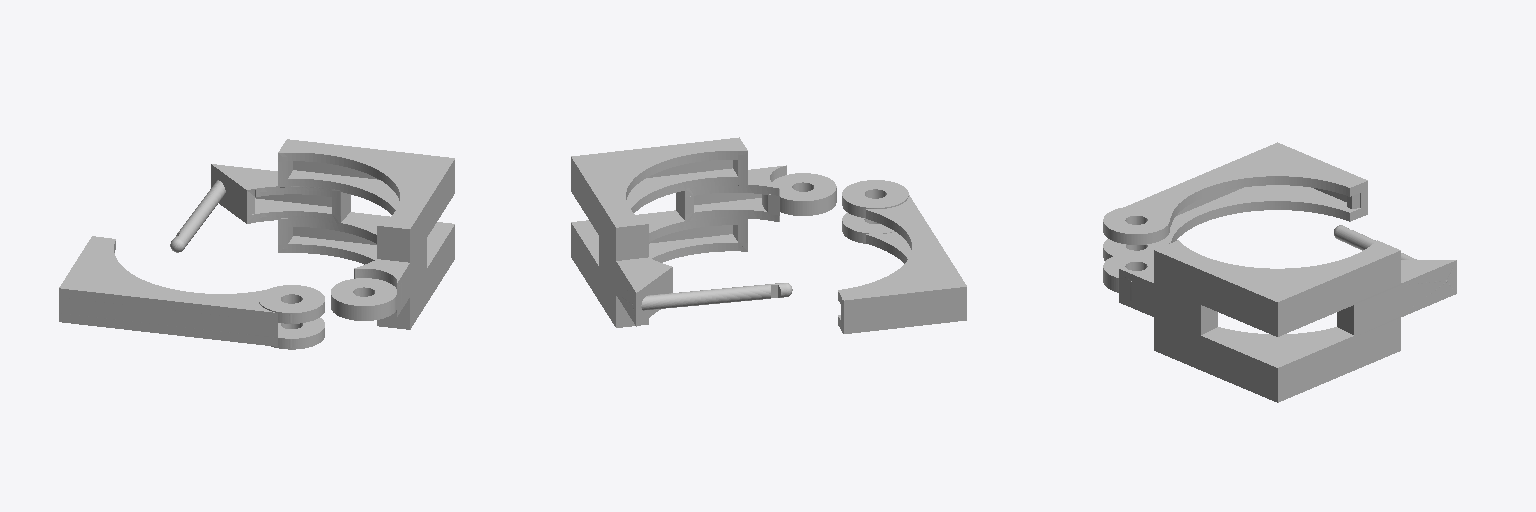
File: Pendant.obj
3 renders of one model, left to right at view 1: azimuth 30°, elevation 25°; view 2: azimuth 150°, elevation 25°; view 3: azimuth 270°, elevation 25°, orthographic.
Visible parts, largest first — view 1: Stl_file_of_the_Earrings.001; view 2: Stl_file_of_the_Earrings.001; view 3: Stl_file_of_the_Earrings.001.
Part boxes in pixels (x1,y1,x2,y2): Stl_file_of_the_Earrings.001: (59, 139, 454, 349); Stl_file_of_the_Earrings.001: (571, 137, 966, 333); Stl_file_of_the_Earrings.001: (1103, 142, 1456, 402).
Size of the model in its own units: 29.4 by 7.12 by 22.7.